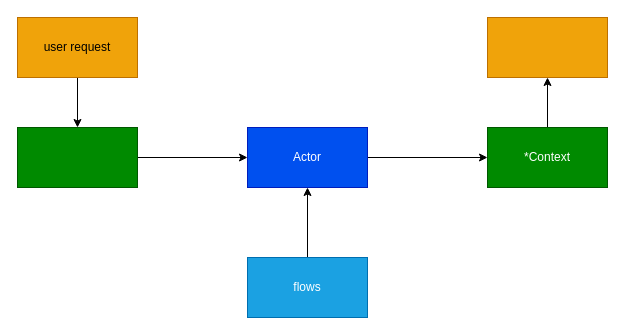
The diagram is 625 pixels wide and 335 high, and some of its shapes have lost their labels. Each missing label, with the centre of its shape:
actor response: (547,47)
Context: (77,157)
